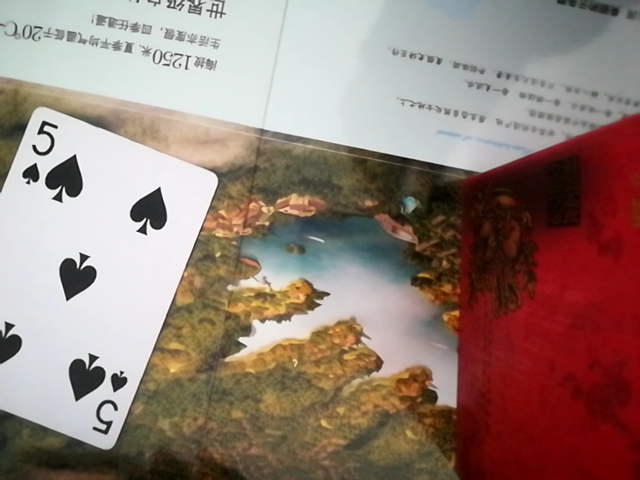ht 5: (0, 100, 217, 459)
